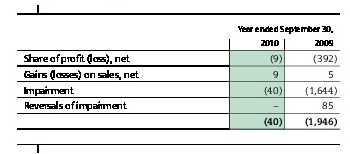table: (0, 0, 350, 154)
